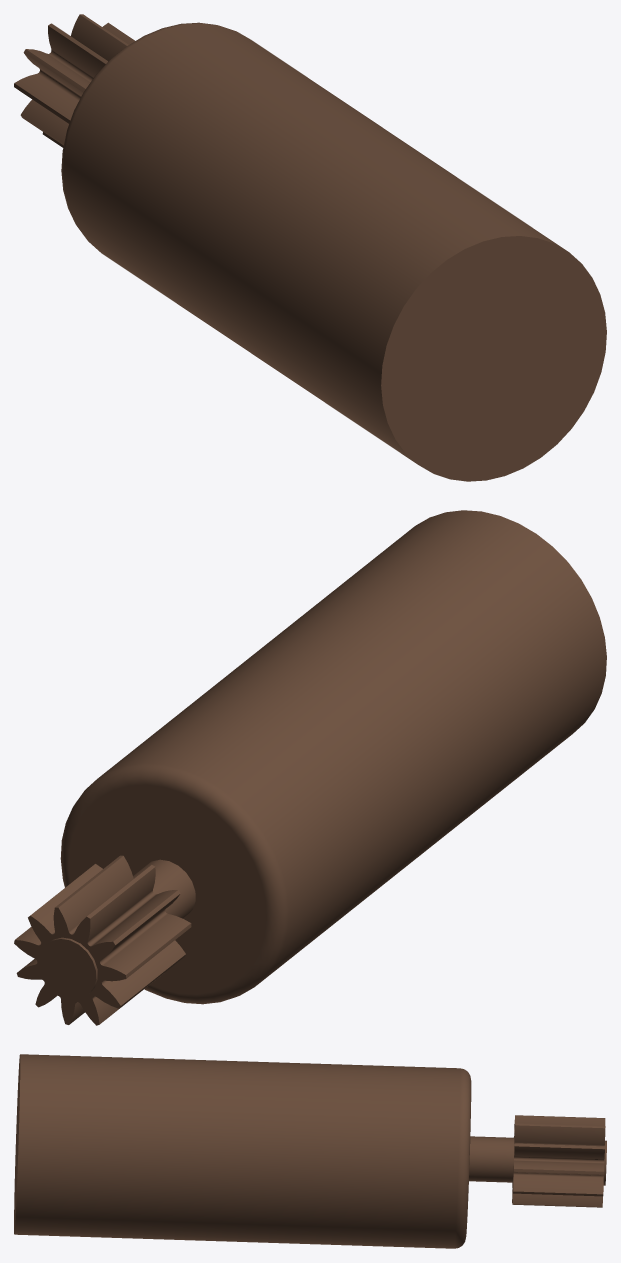
Rendered from Gearing.gltf.
3 renders of one model, top to bottom at view 1: azimuth 30°, elevation 25°; view 2: azimuth 150°, elevation 25°; view 3: azimuth 270°, elevation 25°, orthographic. The views are drawn at different scales.
Parts seen in each view (by area): view 1: Solid1; view 2: Solid1; view 3: Solid1.
Boxes of the visible parts, <box> form: Solid1: <box>14,14,606,481</box>; Solid1: <box>14,510,606,1025</box>; Solid1: <box>14,1054,606,1248</box>.
Size of the model in its own units: 0.008 by 0.00866 by 0.0263.
